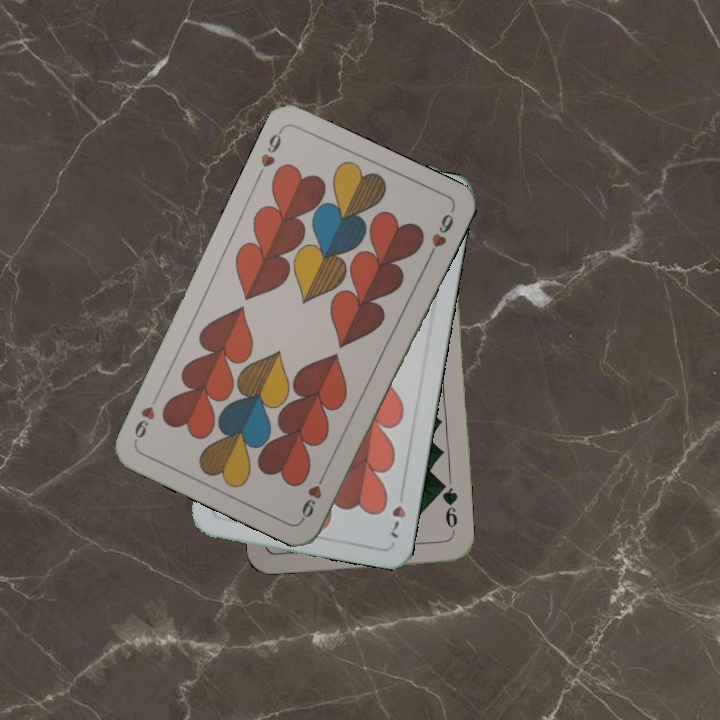G9: (437, 480, 460, 539)
H7: (386, 484, 408, 541)
H9: (297, 467, 329, 523), (253, 125, 285, 181)
